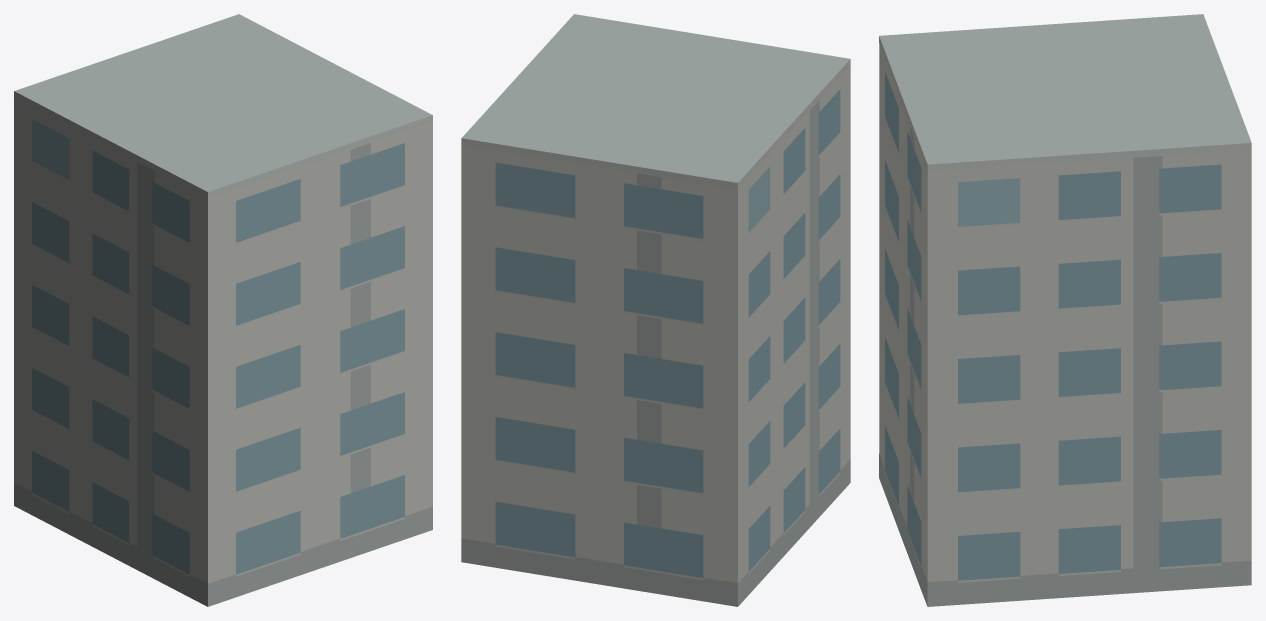
File: residential-2f8bc503-4d6a-4899-b34e-b796c43dcecb.glb
3 views of the same model, side by side, from view 1: azimuth 30°, elevation 25°; view 2: azimuth 150°, elevation 25°; view 3: azimuth 270°, elevation 25° (orthographic). The views are drawn at different scales.
Parts seen in each view (by area): view 1: residential-2f8bc503-4d6a-4899-b34e-b796c43dcecb.tmp; view 2: residential-2f8bc503-4d6a-4899-b34e-b796c43dcecb.tmp; view 3: residential-2f8bc503-4d6a-4899-b34e-b796c43dcecb.tmp.
Part boxes in pixels (x1,y1,x2,y2): residential-2f8bc503-4d6a-4899-b34e-b796c43dcecb.tmp: (14,14,432,606); residential-2f8bc503-4d6a-4899-b34e-b796c43dcecb.tmp: (461,14,850,606); residential-2f8bc503-4d6a-4899-b34e-b796c43dcecb.tmp: (879,14,1251,606).
Size of the model in its own units: 11.15 by 15.25 by 11.66.
